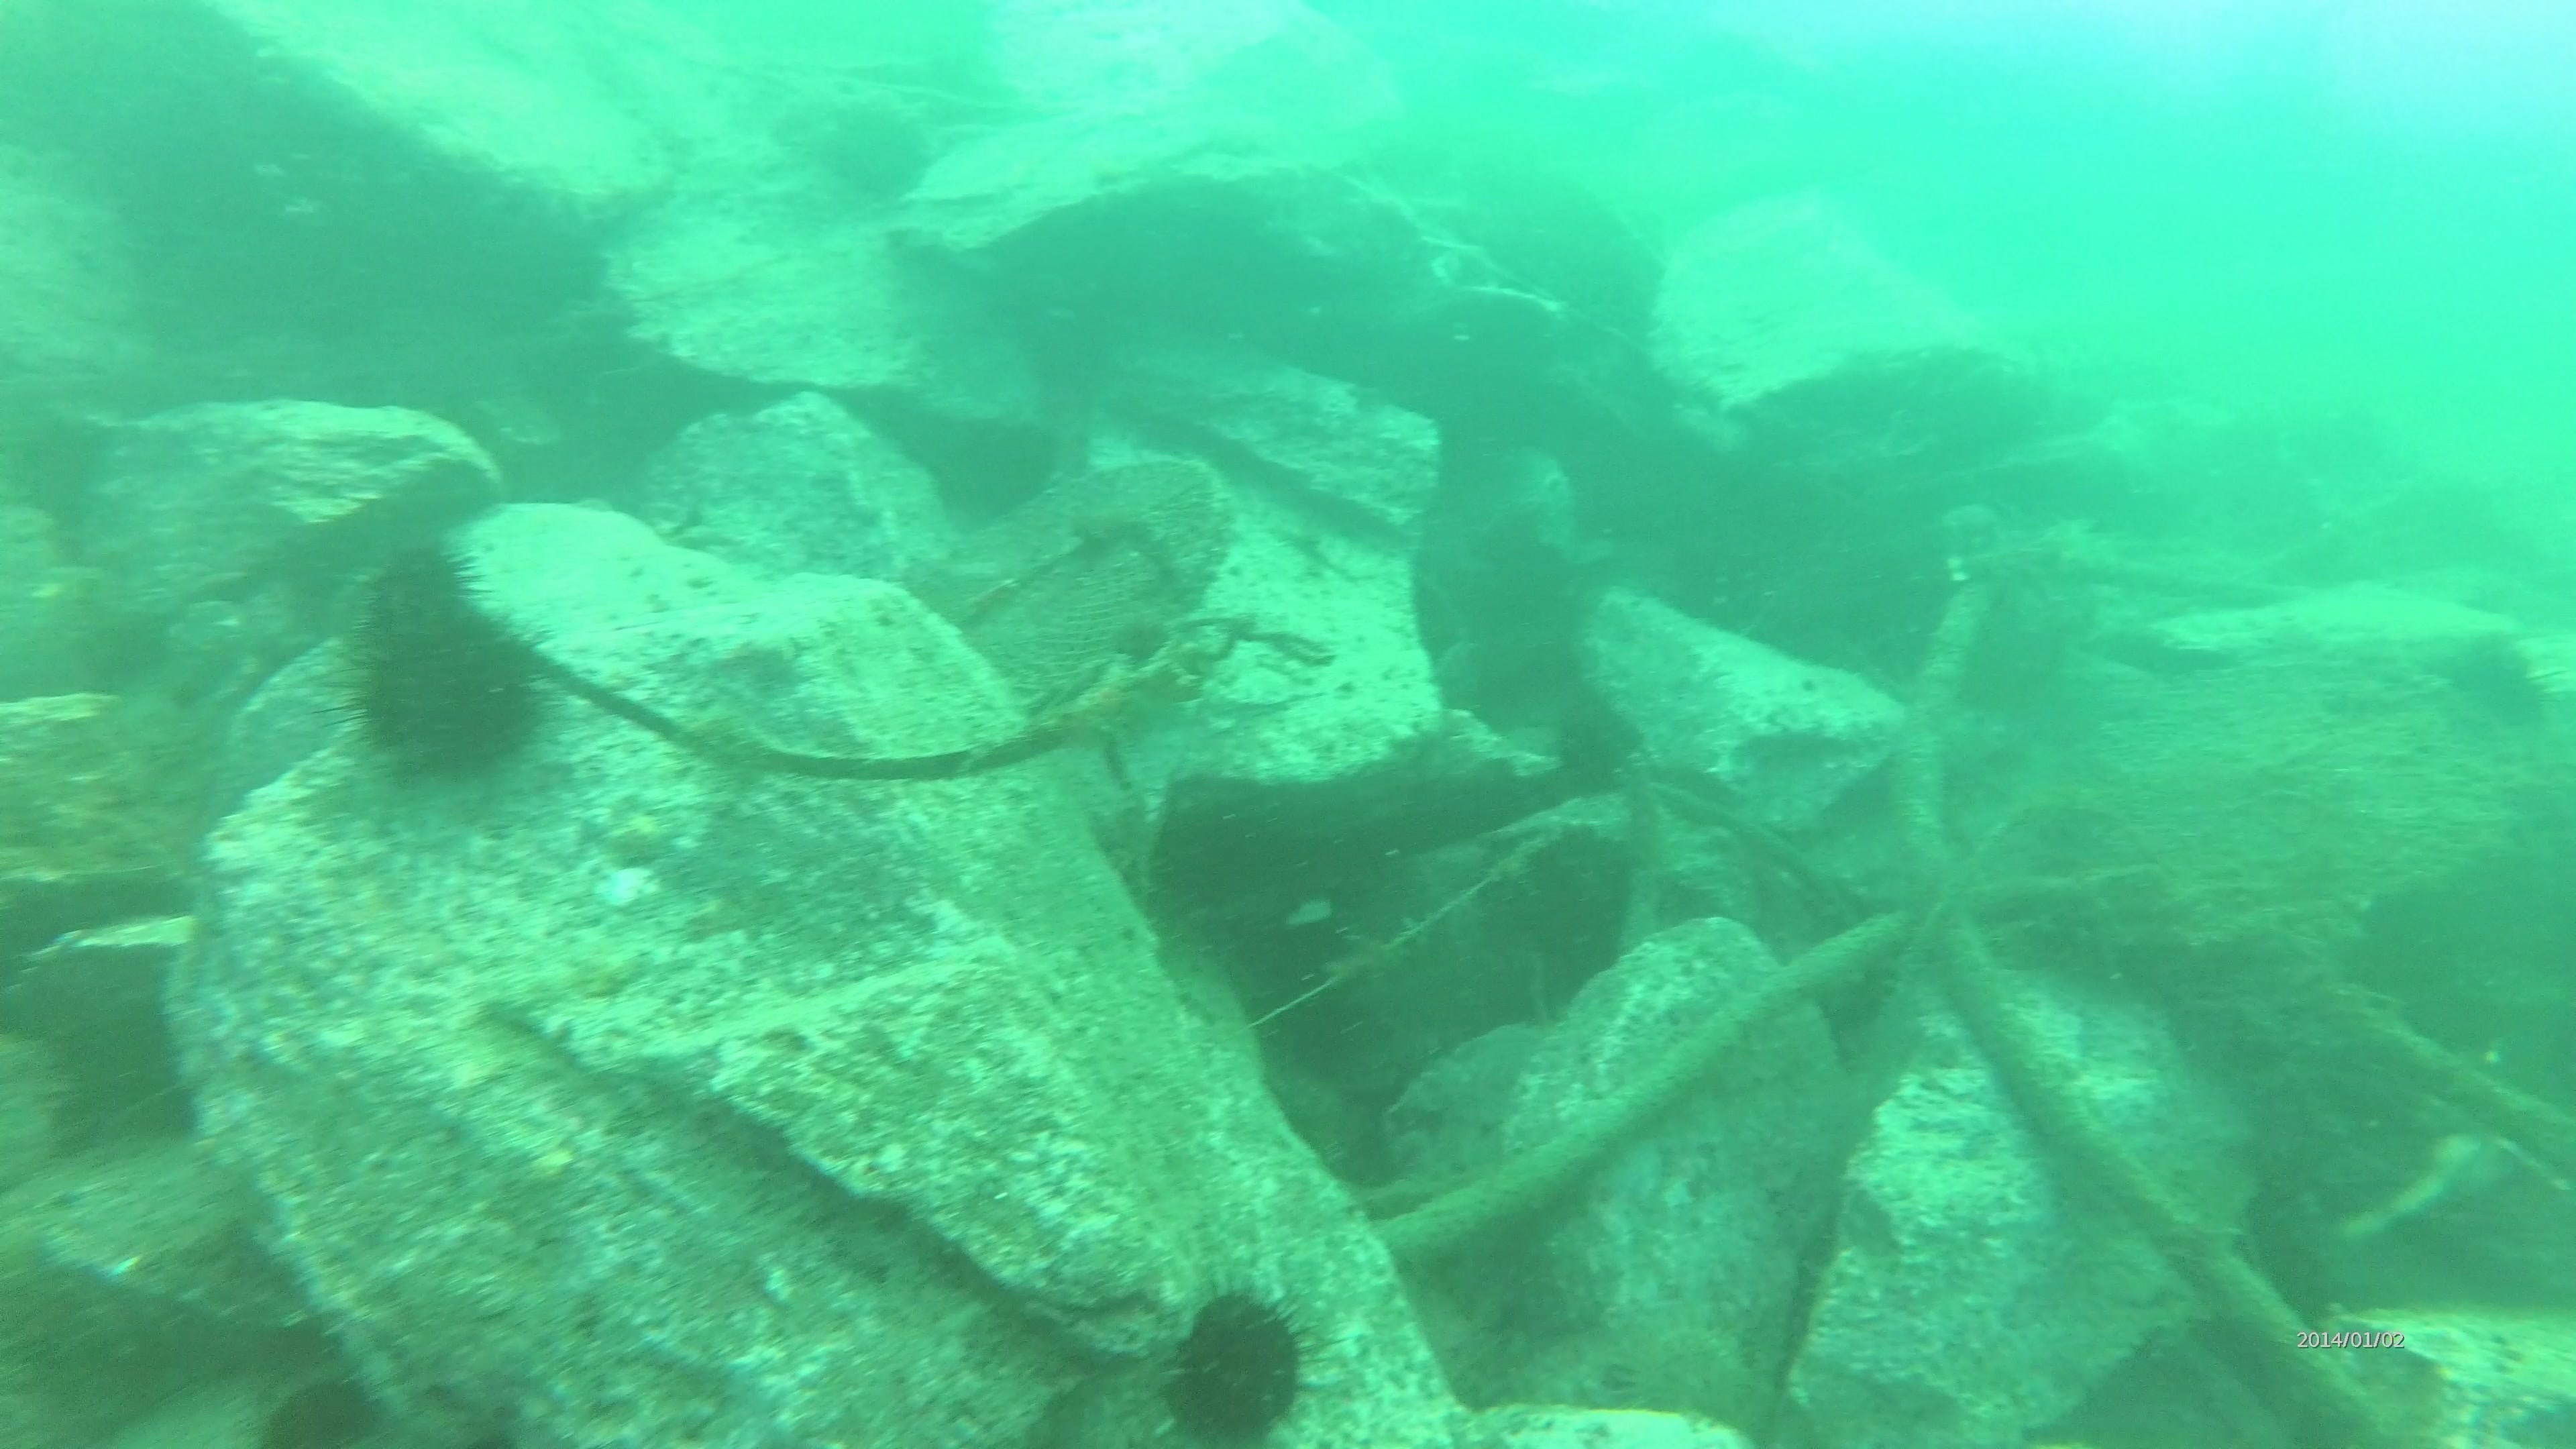echinus: (336, 602, 559, 789), (1152, 1277, 1323, 1442), (1601, 1300, 1771, 1435), (352, 533, 487, 651), (253, 1366, 389, 1445)
